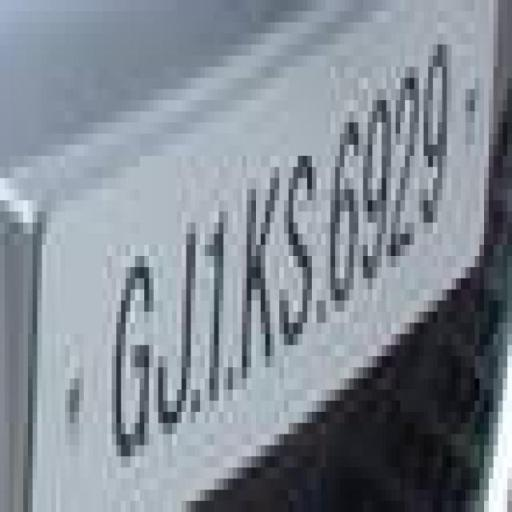number plate: (24, 22, 508, 479)
